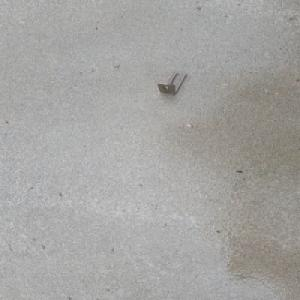MetalPart: (156, 71, 187, 94)
